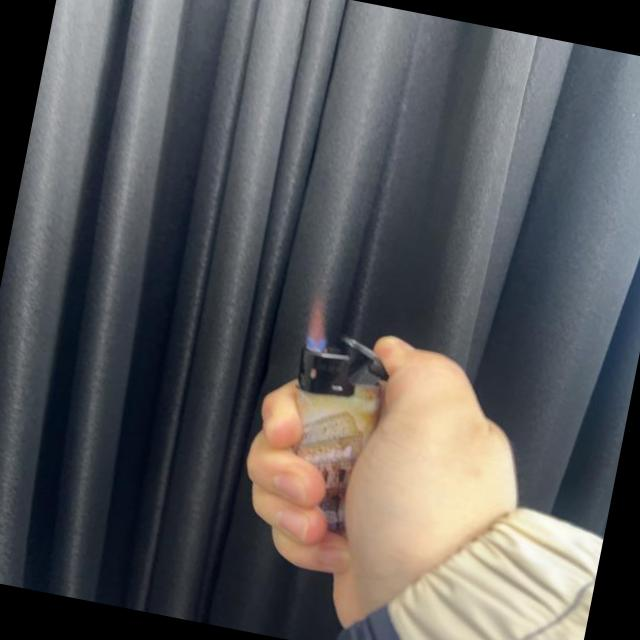Fire: (300, 290, 336, 352)
